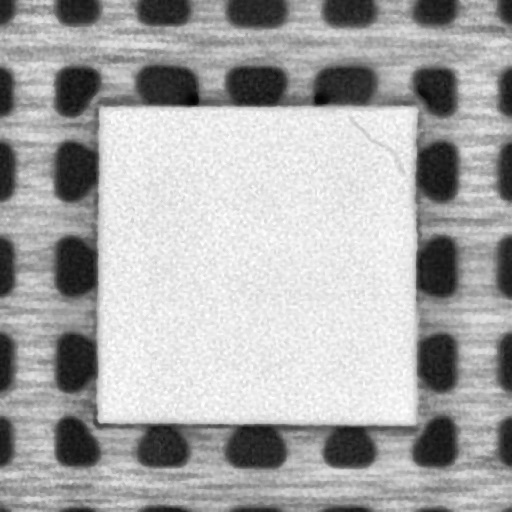DIE_CRACK: (346, 114, 404, 174)
